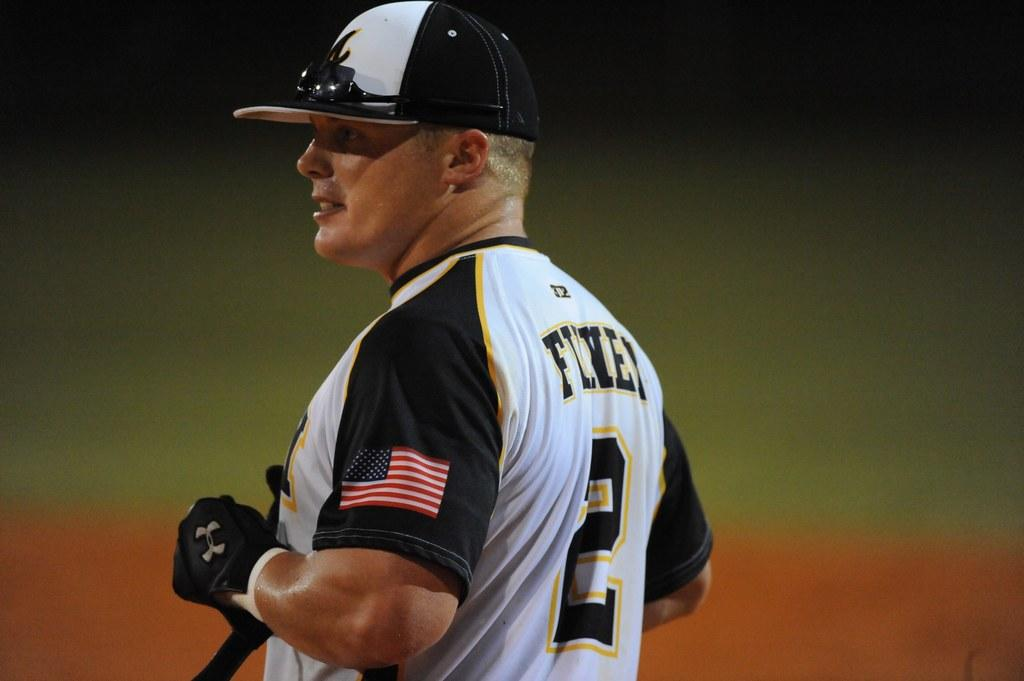Hat: (230, 0, 542, 141)
